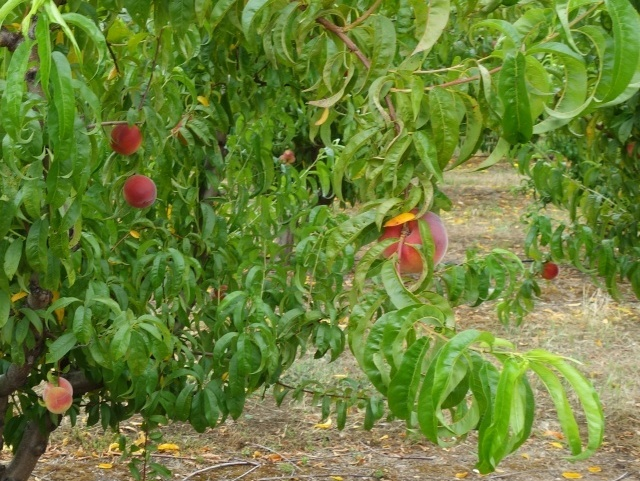peach: (378, 203, 451, 278), (122, 170, 160, 211), (107, 119, 145, 157), (43, 384, 74, 417), (37, 369, 75, 395), (536, 258, 559, 284)
